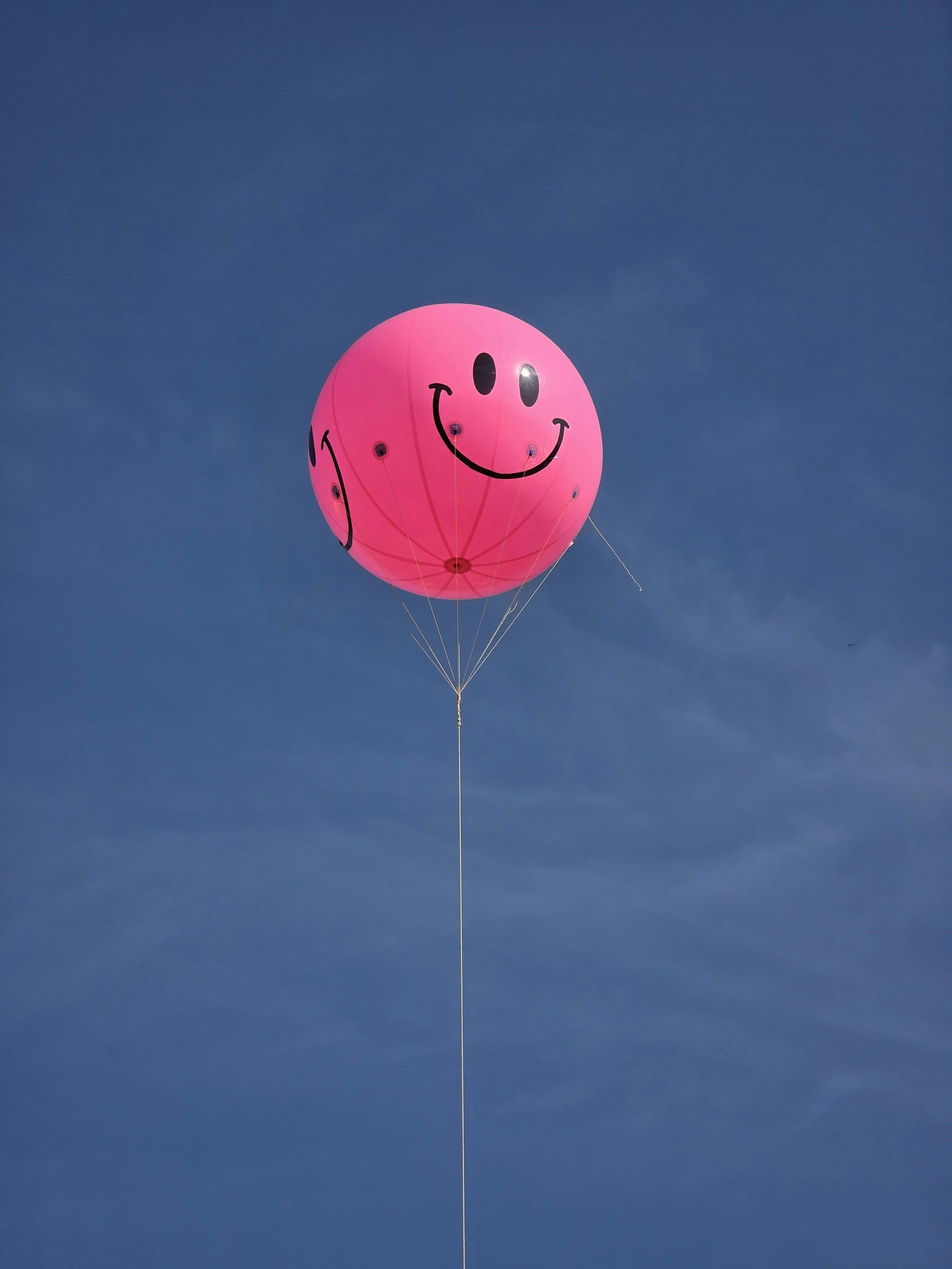balloon: (307, 305, 602, 600)
